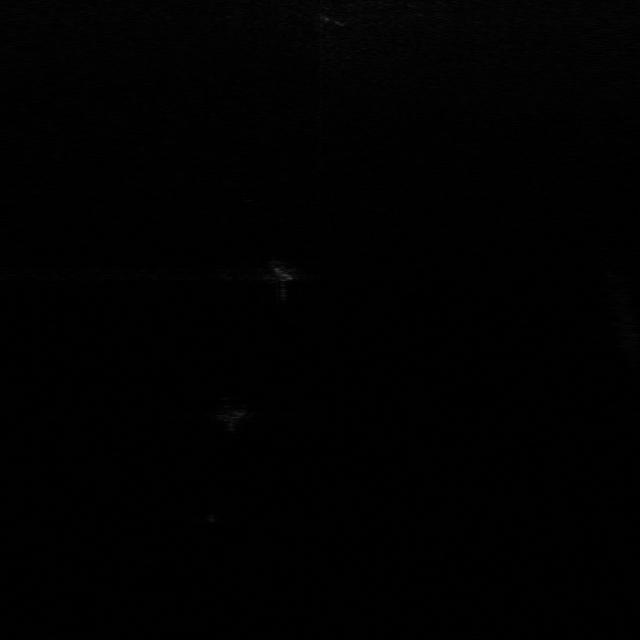cube: (206, 393, 252, 427)
square cage: (257, 254, 307, 287)
